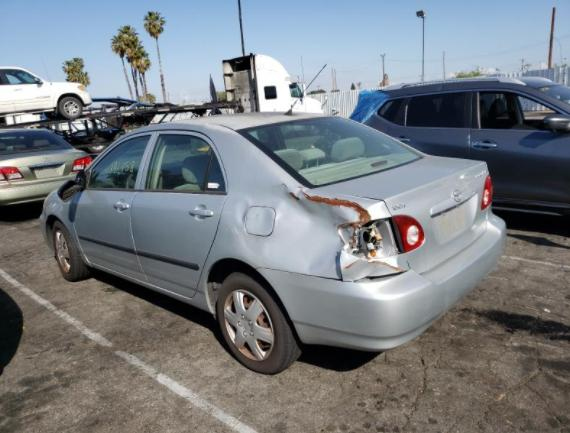Back-bumper: (256, 212, 507, 350)
Back-door: (130, 130, 226, 296)
Back-wheel: (214, 271, 301, 378)
Back-window: (145, 134, 227, 194)
Back-windshield: (236, 115, 429, 187)
Fender: (41, 187, 92, 268)
Front-bumper: (39, 215, 49, 246)
Front-door: (75, 131, 156, 281)
Front-wheel: (51, 220, 86, 280)
Front-window: (88, 133, 151, 187)
Mirror: (56, 171, 84, 201)
Quarter-panel: (196, 181, 410, 297)
Rocker-panel: (88, 260, 213, 315)
Roof: (170, 111, 329, 131)
Tail-light: (390, 215, 425, 254), (483, 176, 494, 208)
Trunk: (310, 156, 491, 276)
